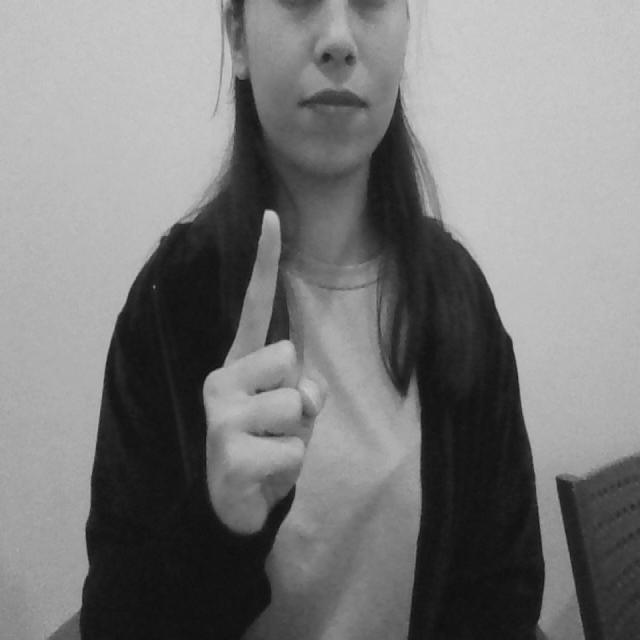Hayir: (194, 210, 332, 536)
